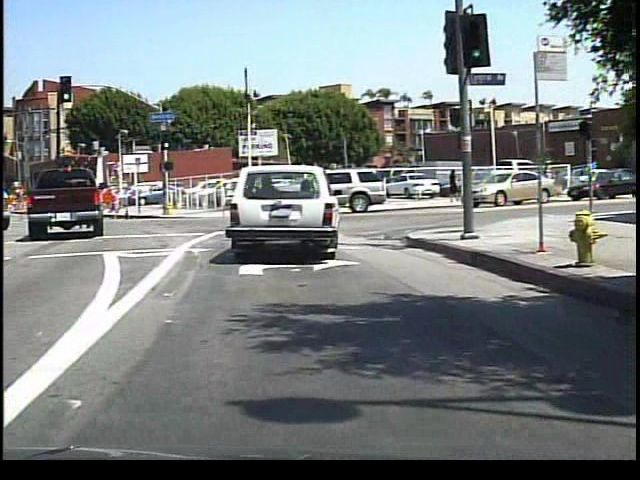person: (443, 161, 462, 205)
